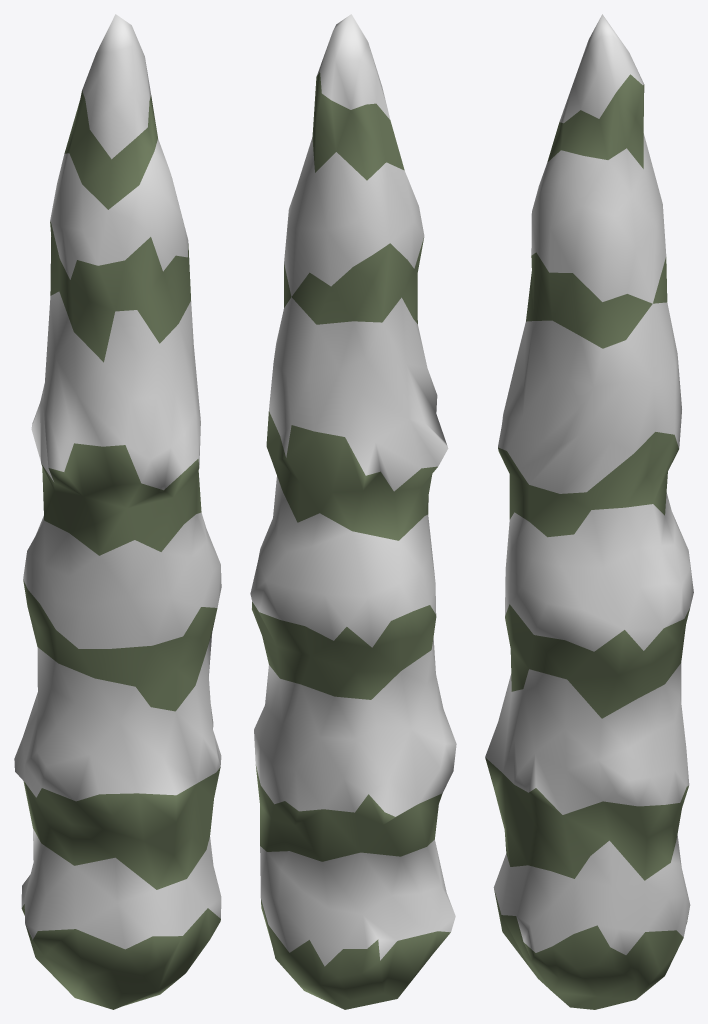
Rendered from DyingVegetationDecorationLargeSnowCovered1.fbx.
3 views of the same model, side by side, from view 1: azimuth 30°, elevation 25°; view 2: azimuth 150°, elevation 25°; view 3: azimuth 270°, elevation 25° (orthographic).
Visible parts, largest first — view 1: DyingVegetationDecorationLargeSnowCovered1; view 2: DyingVegetationDecorationLargeSnowCovered1; view 3: DyingVegetationDecorationLargeSnowCovered1.
Part boxes in pixels (box(x1,y1,x2,y2)): DyingVegetationDecorationLargeSnowCovered1: box(14, 14, 221, 1009); DyingVegetationDecorationLargeSnowCovered1: box(250, 14, 456, 1009); DyingVegetationDecorationLargeSnowCovered1: box(485, 14, 693, 1009).
Bounding box in the file's own units: 200 × 1052 × 200.
